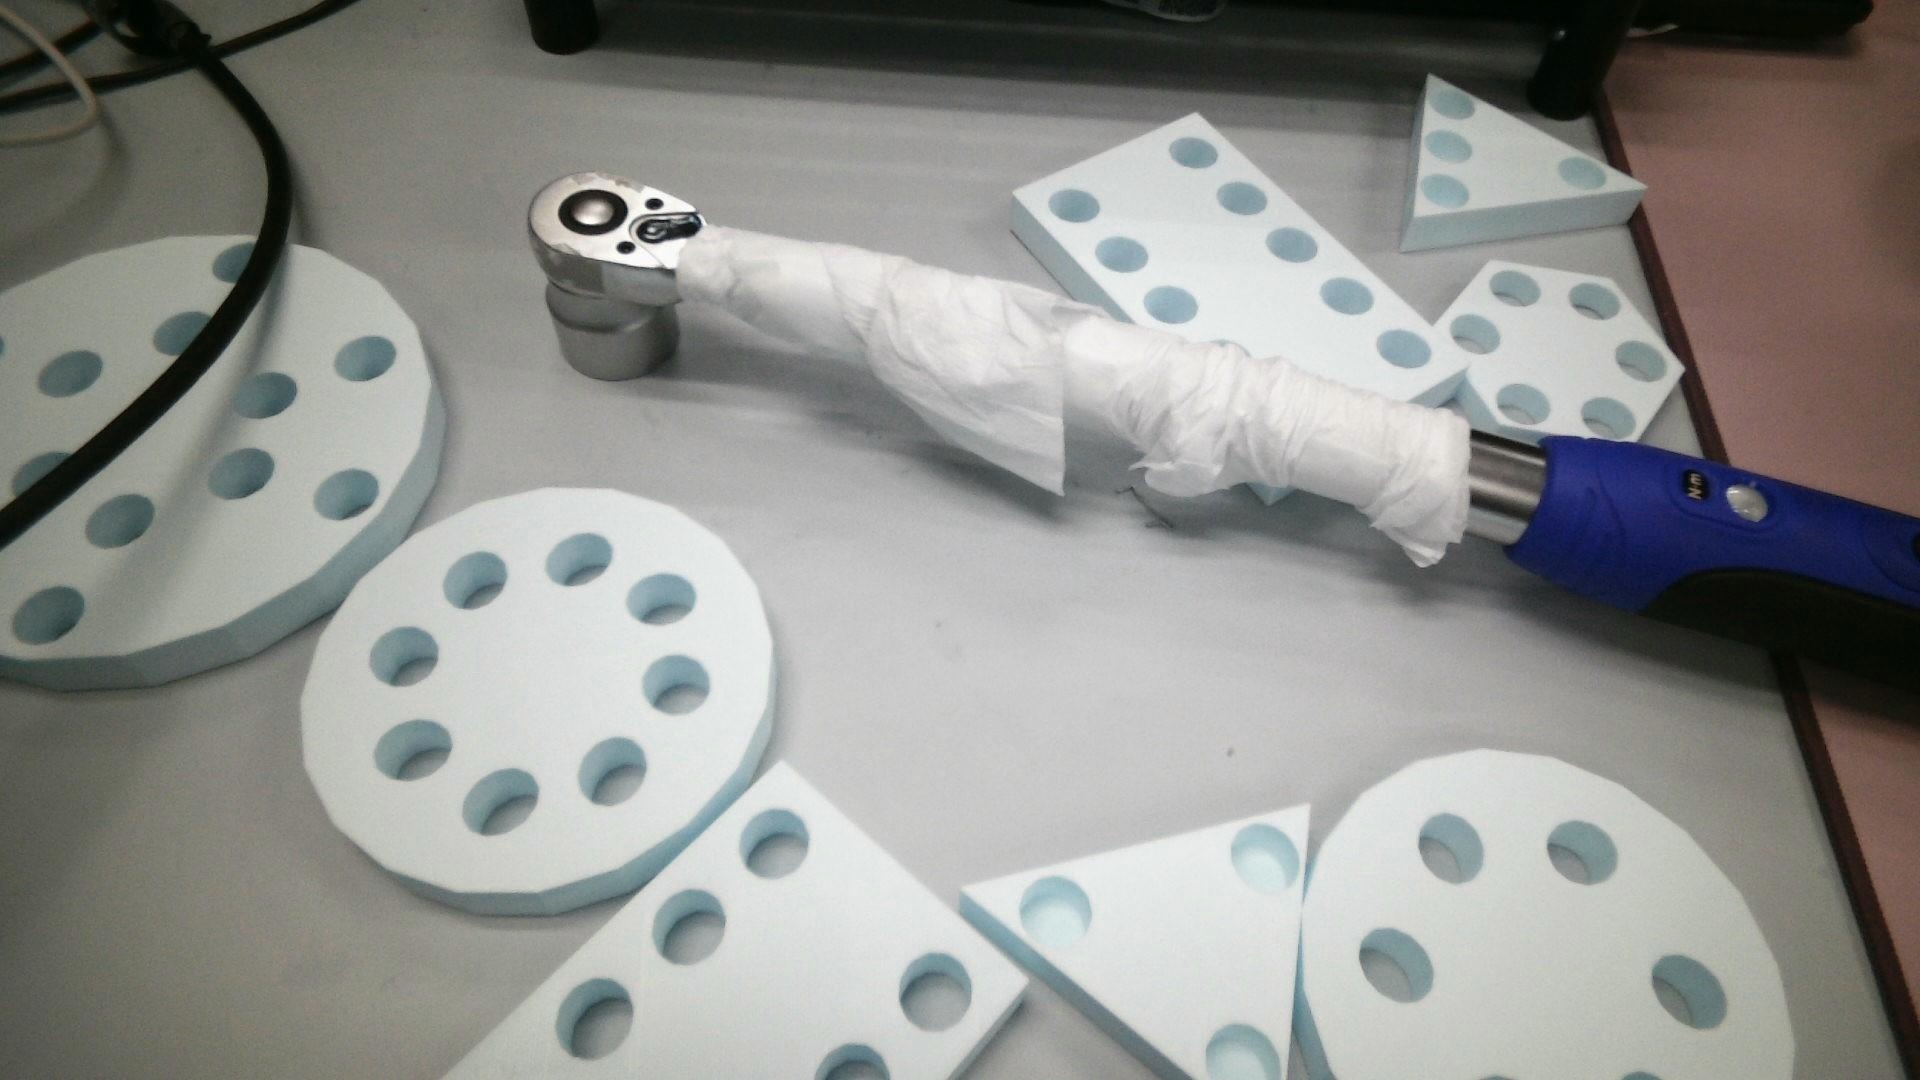hole: (1644, 948, 1731, 1033), (553, 975, 632, 1062), (897, 952, 975, 1036), (1357, 923, 1437, 1002), (735, 804, 814, 884), (651, 887, 727, 967), (1545, 815, 1621, 889), (1414, 811, 1486, 887), (1018, 876, 1093, 945), (460, 767, 538, 835), (578, 738, 651, 808), (1230, 822, 1300, 894), (371, 720, 451, 779), (11, 583, 86, 645), (642, 654, 712, 719), (1203, 1022, 1280, 1080), (367, 628, 442, 687), (309, 465, 382, 522), (204, 444, 277, 500), (444, 550, 510, 611), (84, 495, 157, 549), (223, 371, 301, 419), (626, 574, 698, 626), (36, 349, 104, 400), (553, 531, 612, 585), (152, 310, 218, 357), (332, 335, 396, 384), (812, 1043, 890, 1080), (1613, 339, 1669, 384), (11, 452, 66, 496), (1582, 397, 1639, 439), (1448, 314, 1503, 356), (1495, 384, 1549, 426), (1375, 330, 1433, 368), (212, 239, 260, 285), (1320, 276, 1375, 315), (1145, 285, 1200, 323), (1263, 228, 1323, 264), (1571, 281, 1622, 322), (1096, 237, 1150, 276), (1048, 186, 1102, 223), (1491, 270, 1543, 309), (1217, 181, 1270, 216), (1424, 129, 1476, 165), (1420, 174, 1473, 208), (1431, 88, 1480, 123), (1557, 158, 1609, 190), (1171, 138, 1220, 170), (1614, 1069, 1672, 1080), (1477, 1075, 1515, 1080)
obj: (299, 484, 778, 919), (1, 228, 446, 692), (418, 760, 1027, 1080), (1300, 745, 1801, 1080), (1007, 112, 1469, 407), (965, 798, 1309, 1080), (1433, 261, 1692, 452), (1399, 73, 1648, 255)
wrench: (558, 189, 630, 236)
